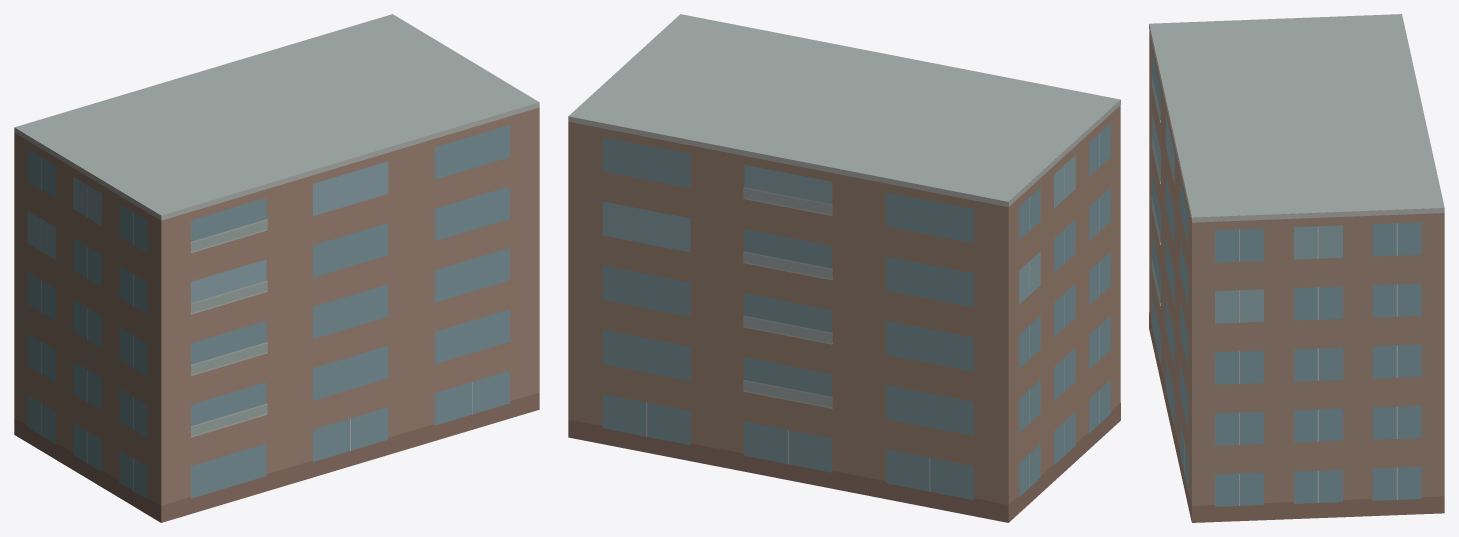
Rendered from survey-upis-32982251.glb.
3 views of the same model, side by side, from view 1: azimuth 30°, elevation 25°; view 2: azimuth 150°, elevation 25°; view 3: azimuth 270°, elevation 25° (orthographic). The views are drawn at different scales.
Visible parts, largest first — view 1: survey-upis-32982251.tmp; view 2: survey-upis-32982251.tmp; view 3: survey-upis-32982251.tmp.
Boxes of the visible parts, x1=… form: survey-upis-32982251.tmp: x1=14, y1=14, x2=539, y2=522; survey-upis-32982251.tmp: x1=568, y1=14, x2=1120, y2=522; survey-upis-32982251.tmp: x1=1149, y1=14, x2=1444, y2=522.
Bounding box in the file's own units: 20.88 × 14.6 × 12.82.
